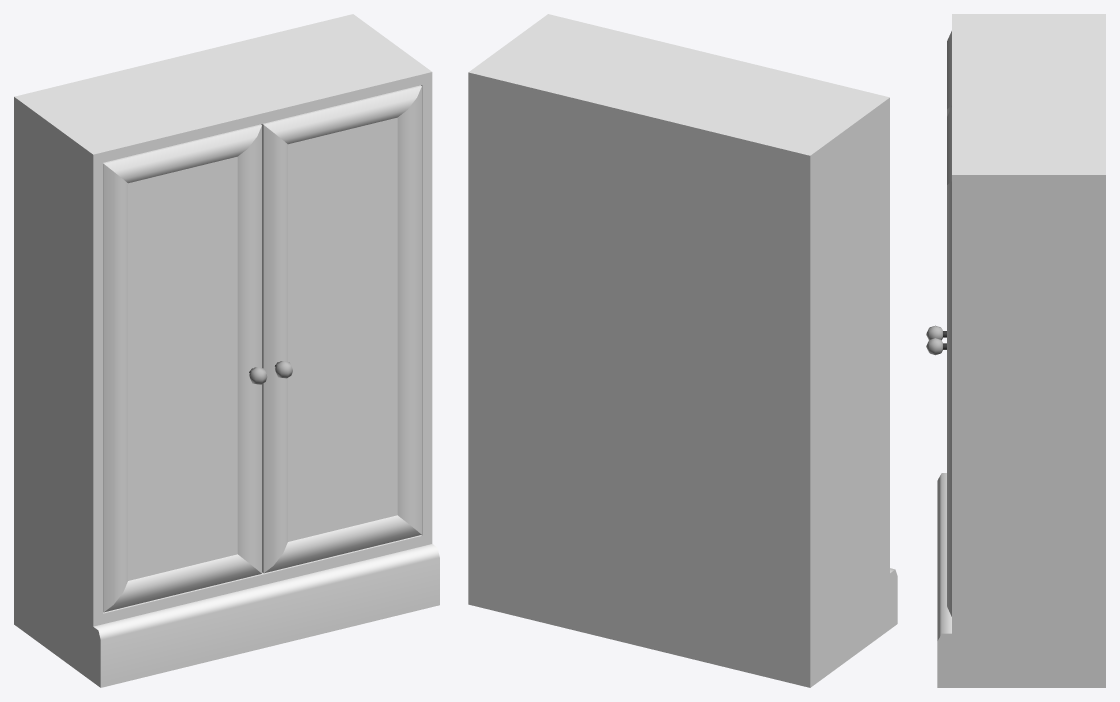
File: cupboard_017.fbx
3 renders of one model, left to right at view 1: azimuth 30°, elevation 25°; view 2: azimuth 150°, elevation 25°; view 3: azimuth 270°, elevation 25°, orthographic. The views are drawn at different scales.
Parts seen in each view (by area): view 1: cupboard_017; view 2: cupboard_017; view 3: cupboard_017.
Boxes of the visible parts, left/top/right/bottom form: cupboard_017: left=14, top=14, right=439, bottom=687; cupboard_017: left=468, top=14, right=897, bottom=687; cupboard_017: left=926, top=14, right=1105, bottom=687.
Size of the model in its own units: 157 by 74.13 by 233.
